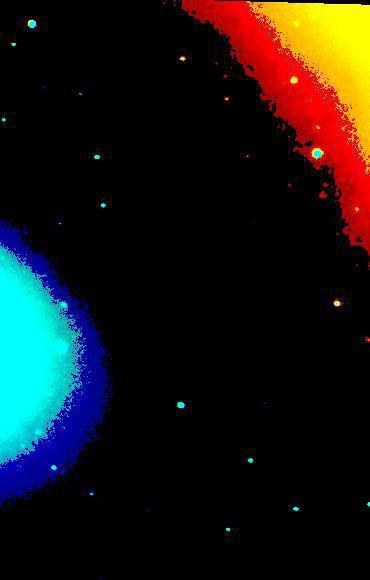star: (268, 429, 298, 459)
